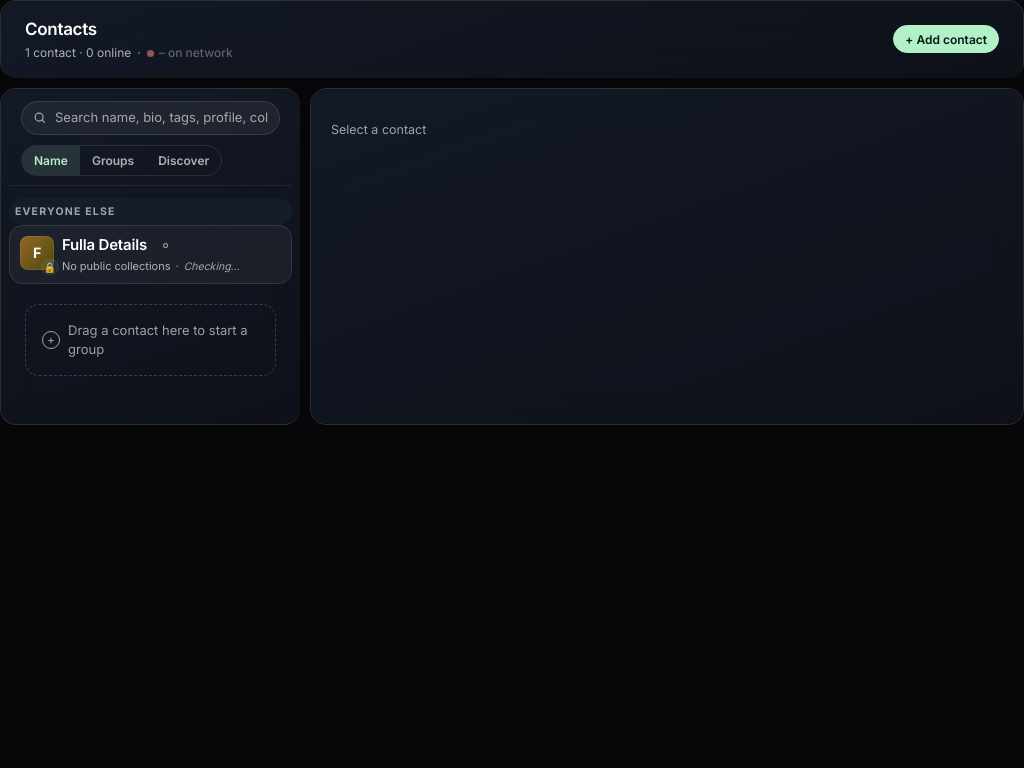
Scenario: devtest item 3 — the chevron panel is the REST of the profile › renders every profile fact the face has no room for
What coordinates should you click on to do the following:
click the option with class "contact-card"
I would click on:
 (37, 253)
Its box is 9,226 -> 292,284.
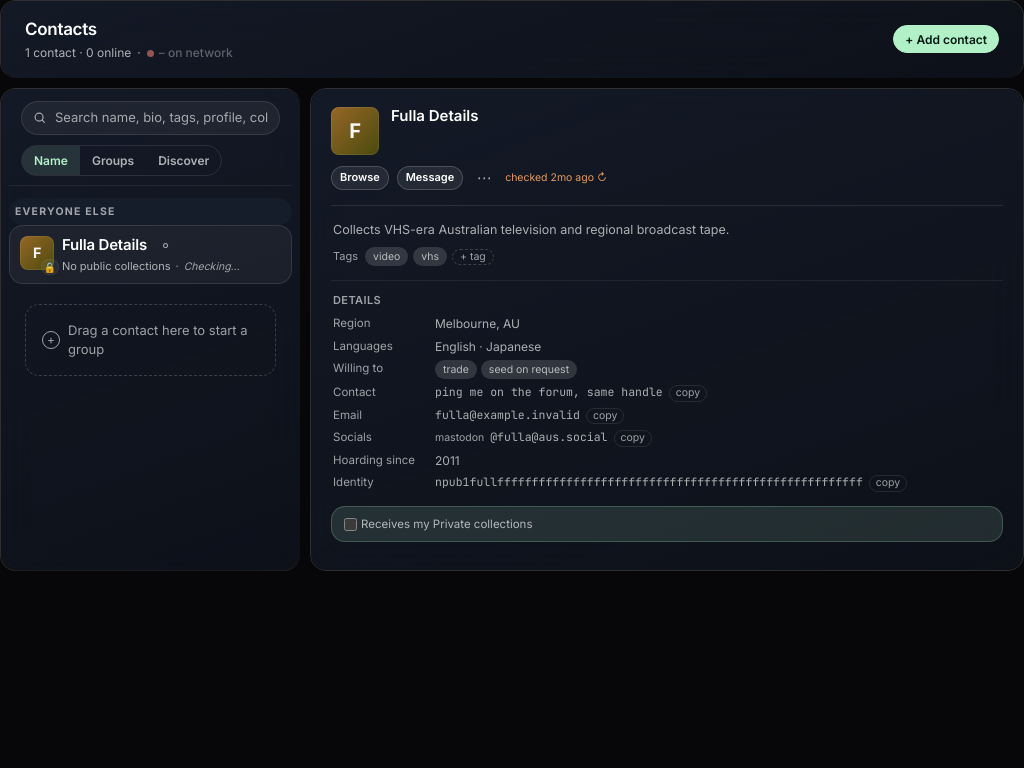
Expected: the element with class "detail-scroll" is shown, 331,205 -> 1003,546
Expected: the element with class "detail-scroll" shows "Melbourne, AU", 435,316 -> 520,331
Expected: the element with class "detail-scroll" shows "English", 435,339 -> 541,354
